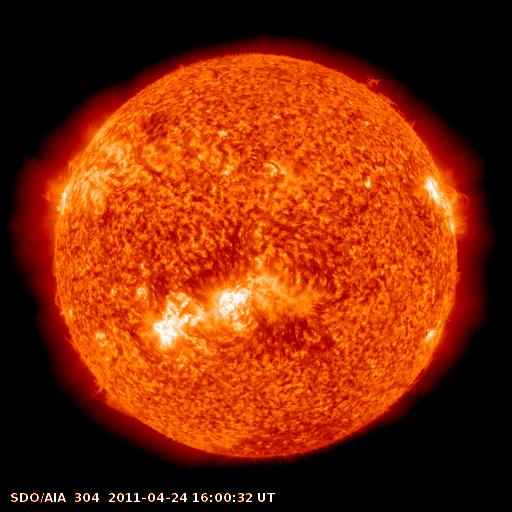prominence: (360, 67, 424, 135), (75, 374, 142, 421), (60, 332, 92, 362), (44, 285, 68, 315)
